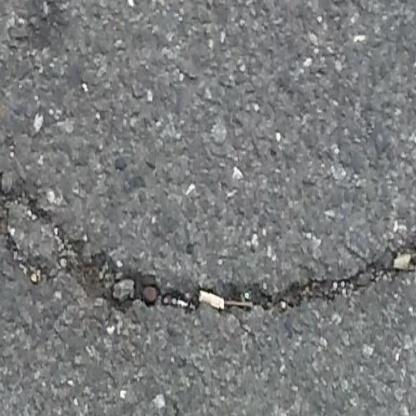Cracks: (33, 207, 416, 384)
